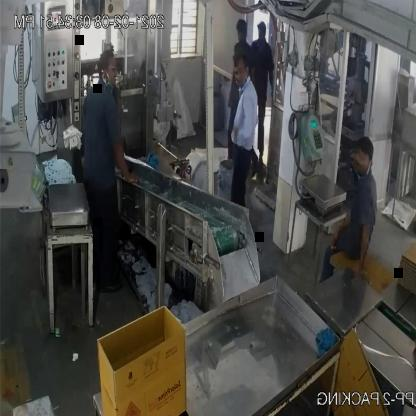no_glove: (100, 117, 139, 209), (354, 198, 376, 292), (327, 195, 354, 261), (233, 95, 258, 154), (403, 328, 416, 360)
